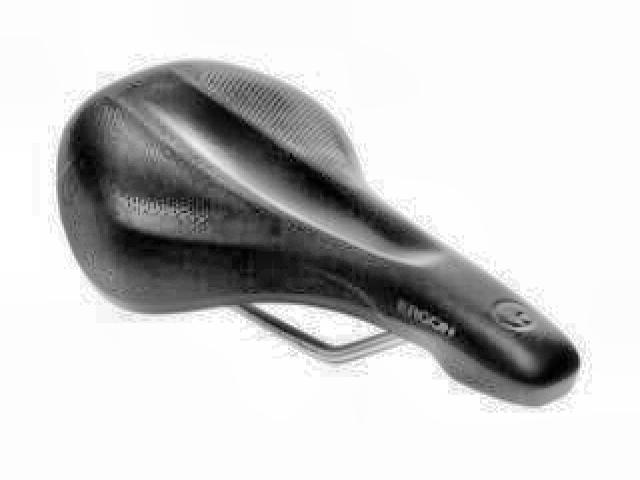saddle: (57, 59, 582, 412)
